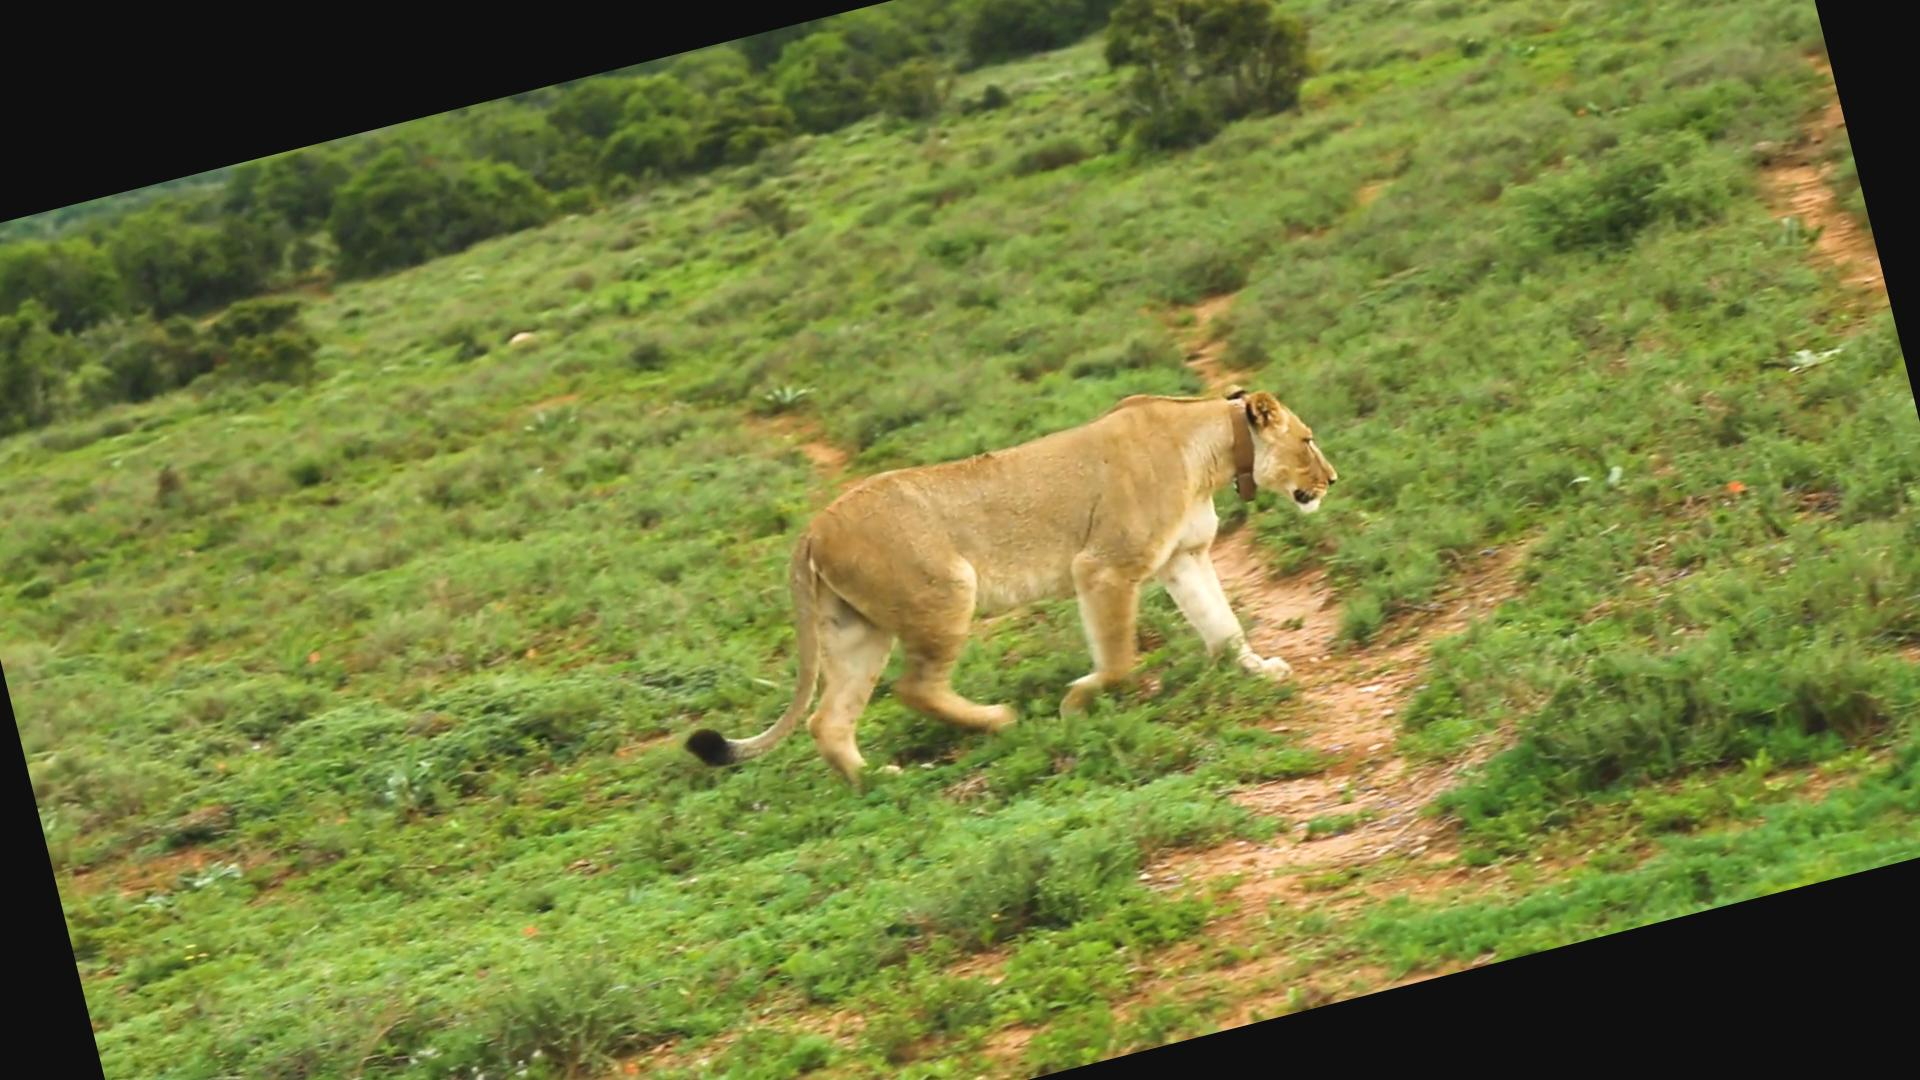lions: (620, 315, 1411, 858)
